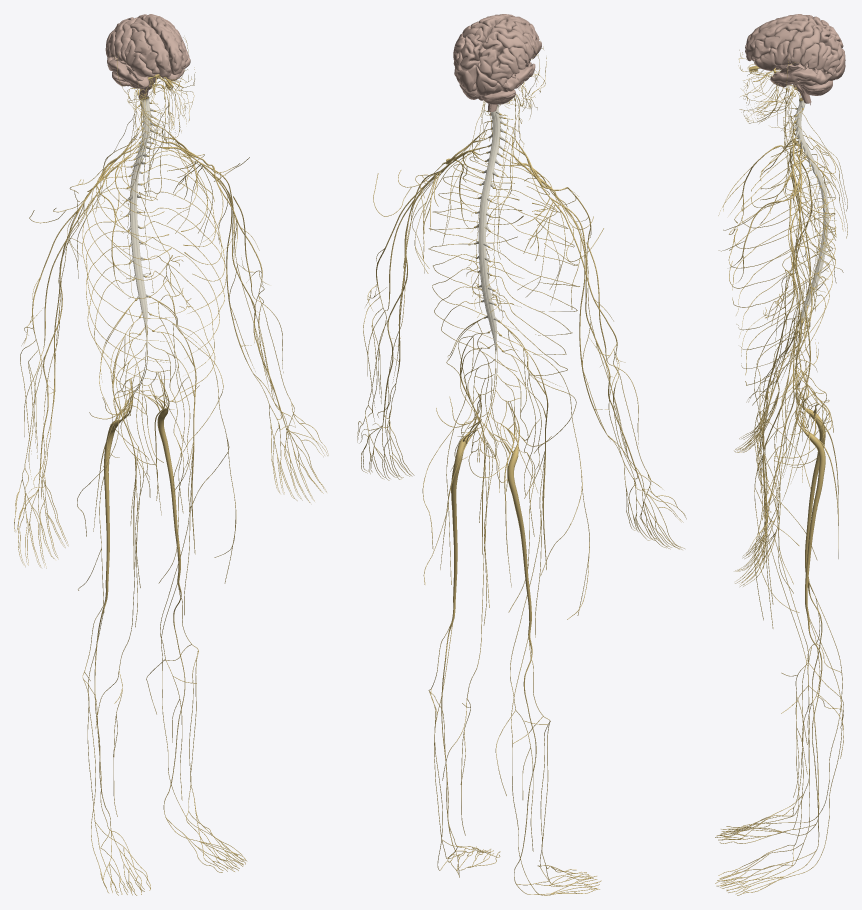
File: nervous.glb
3 views of the same model, side by side, from view 1: azimuth 30°, elevation 25°; view 2: azimuth 150°, elevation 25°; view 3: azimuth 270°, elevation 25° (orthographic). The views are drawn at different scales.
Parts seen in each view (by area): view 1: za-7bcc2337523da2fd, za-9daa6cc5017f3765, za-f1d21b4ce118f399, za-c85282deea82f19d, za-252b39f05350ea70, bp-FMA72653, bp-FMA72654; view 2: za-7bcc2337523da2fd, za-f1d21b4ce118f399, za-9daa6cc5017f3765, za-c85282deea82f19d, za-252b39f05350ea70, bp-FMA72669, za-03ae5f4eeb3b2ea3; view 3: za-f1d21b4ce118f399, za-7bcc2337523da2fd, za-9daa6cc5017f3765, za-252b39f05350ea70, za-c85282deea82f19d, bp-FMA72654, bp-FMA72656, bp-FMA72686, bp-FMA72658, za-22e938aea045b34f, bp-FMA72670, za-6ac62e71c269551e (+18 smaller).
Boxes of the visible parts, x1,y1,x2,y2 form: za-7bcc2337523da2fd: [127, 96, 155, 337]; za-9daa6cc5017f3765: [82, 153, 173, 396]; za-f1d21b4ce118f399: [141, 147, 226, 392]; za-c85282deea82f19d: [103, 379, 132, 598]; za-252b39f05350ea70: [144, 372, 180, 580]; bp-FMA72653: [130, 18, 171, 77]; bp-FMA72654: [143, 15, 182, 74]; za-7bcc2337523da2fd: [475, 105, 505, 354]; za-f1d21b4ce118f399: [428, 156, 523, 371]; za-9daa6cc5017f3765: [490, 165, 579, 375]; za-c85282deea82f19d: [494, 401, 531, 634]; za-252b39f05350ea70: [451, 395, 480, 615]; bp-FMA72669: [490, 48, 519, 85]; za-03ae5f4eeb3b2ea3: [495, 454, 544, 851]; za-f1d21b4ce118f399: [728, 158, 835, 385]; za-7bcc2337523da2fd: [794, 97, 828, 333]; za-9daa6cc5017f3765: [729, 144, 835, 375]; za-252b39f05350ea70: [795, 388, 825, 615]; za-c85282deea82f19d: [795, 374, 825, 579]; bp-FMA72654: [745, 20, 808, 61]; bp-FMA72656: [751, 29, 797, 61]; bp-FMA72686: [770, 67, 831, 84]; bp-FMA72658: [754, 40, 789, 70]; za-22e938aea045b34f: [760, 456, 843, 829]; bp-FMA72670: [816, 42, 840, 75]; za-6ac62e71c269551e: [767, 201, 800, 511].
Size of the model in its own units: 0.6675 by 1.7 by 0.2425.
